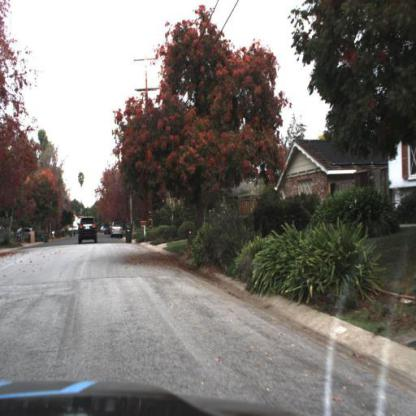car: (77, 213, 99, 247), (110, 220, 124, 240)
